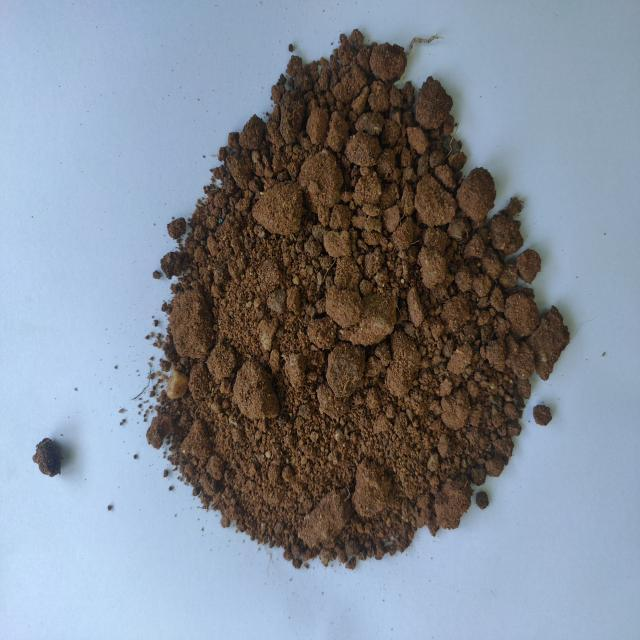soil: (225, 149, 466, 493)
